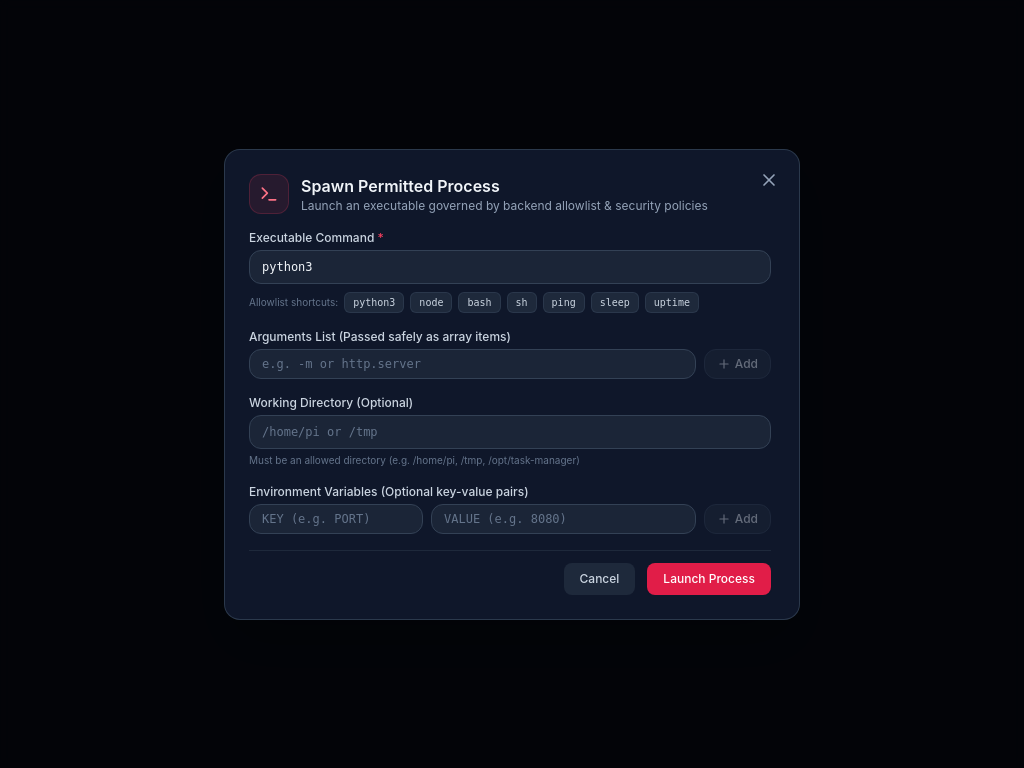
Scenario: CreateProcessDialog › Allowlist shortcut chips › clicking a chip sets the command input to that value
This screenshot has width=1024, height=768.
Step 1. Click the button "bash" → [480, 302], box [458, 292, 501, 312]
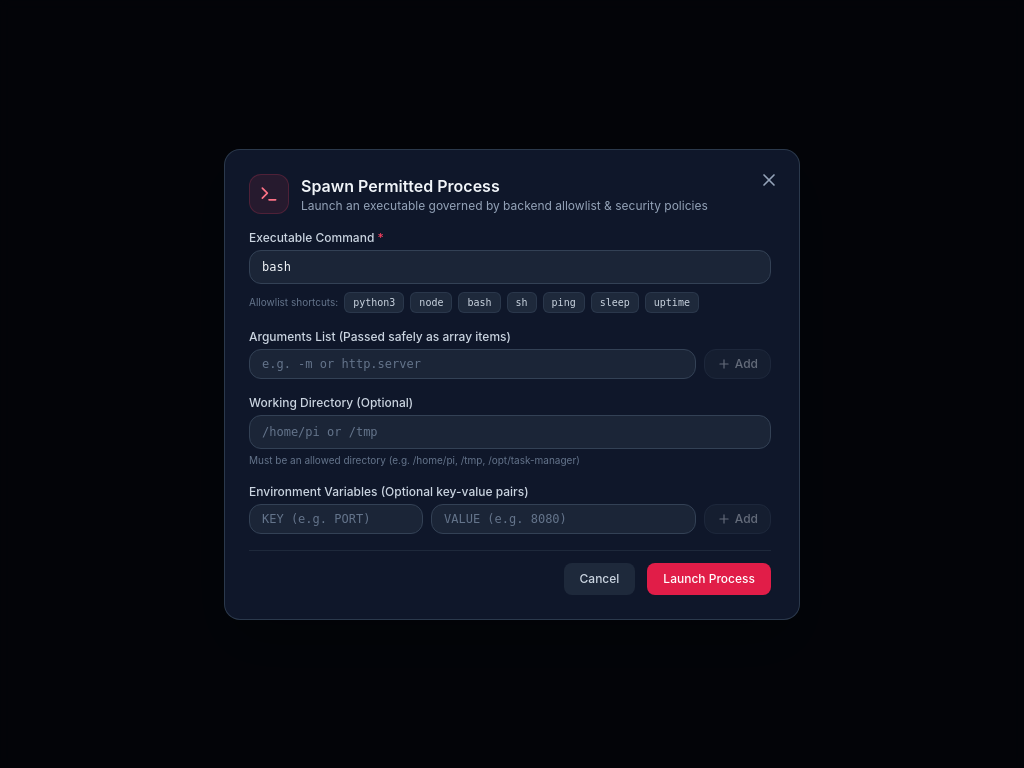
Check: the field with placeholder "e.g. python3" holds "bash", box [249, 250, 771, 284]
